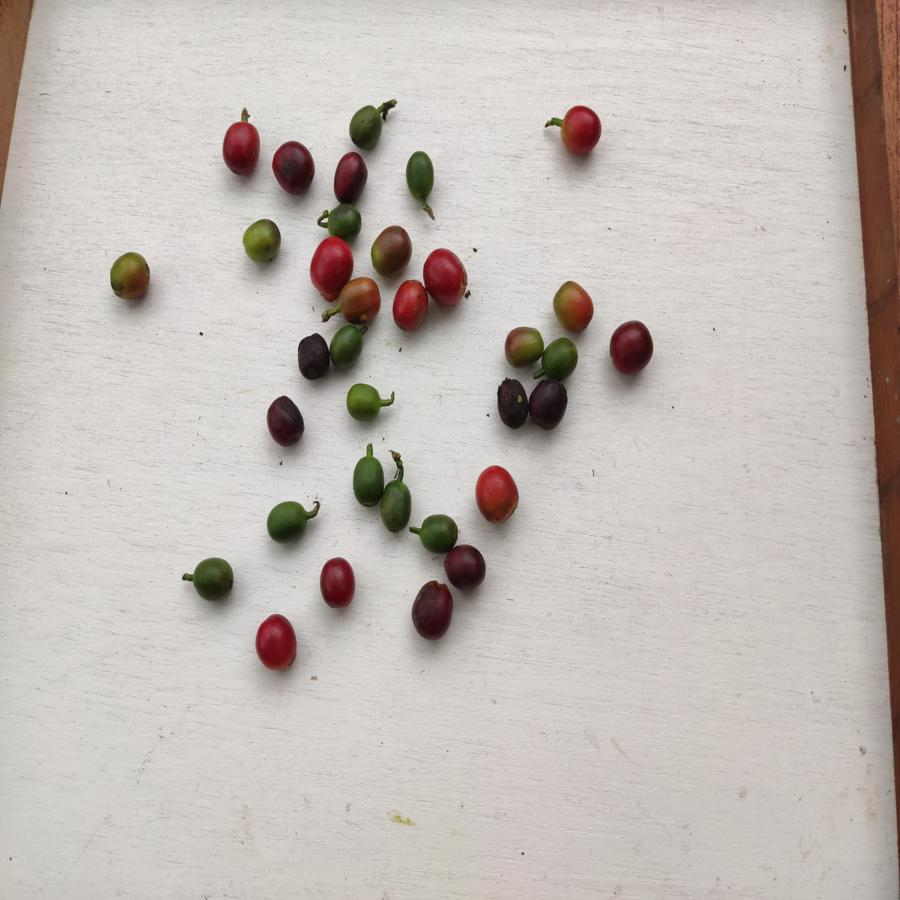Inmaduro: (189, 555, 235, 603), (264, 499, 309, 545), (345, 380, 391, 424), (411, 511, 458, 553), (347, 102, 386, 150), (352, 453, 384, 511), (542, 335, 579, 384), (244, 217, 282, 264), (380, 479, 412, 533), (404, 149, 437, 201), (329, 325, 367, 369), (320, 206, 367, 238)
Maduro: (423, 249, 478, 309), (218, 119, 265, 176), (308, 237, 352, 297), (474, 464, 520, 521), (255, 611, 301, 668), (557, 104, 601, 158), (318, 558, 357, 608), (394, 280, 429, 334)
Pinton: (549, 276, 596, 334), (106, 251, 156, 301), (336, 280, 383, 326), (369, 225, 414, 273), (501, 326, 546, 366)
Sobremaduro: (608, 319, 657, 379), (269, 140, 319, 196), (411, 579, 454, 641), (266, 394, 310, 449), (493, 374, 530, 434), (443, 544, 487, 594), (528, 378, 571, 429), (333, 151, 368, 204), (293, 334, 331, 380)
